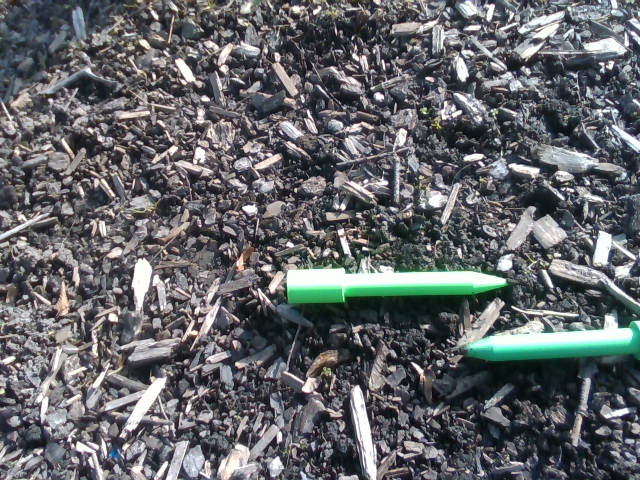Probe: (271, 259, 523, 308), (447, 313, 640, 371)
